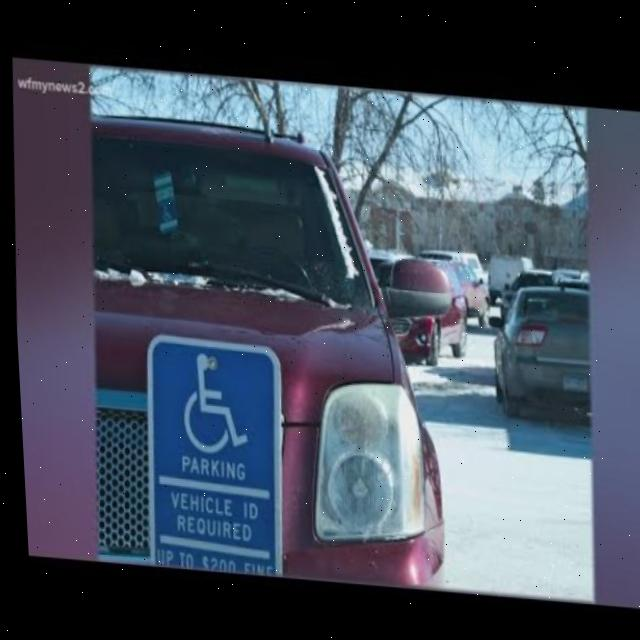symbol_of_access: (167, 341, 250, 463)
